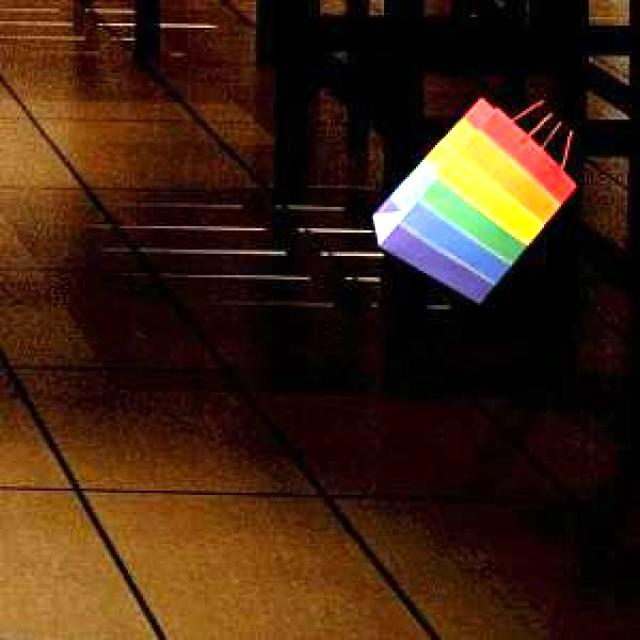Paper_Bag: (370, 95, 573, 300)
